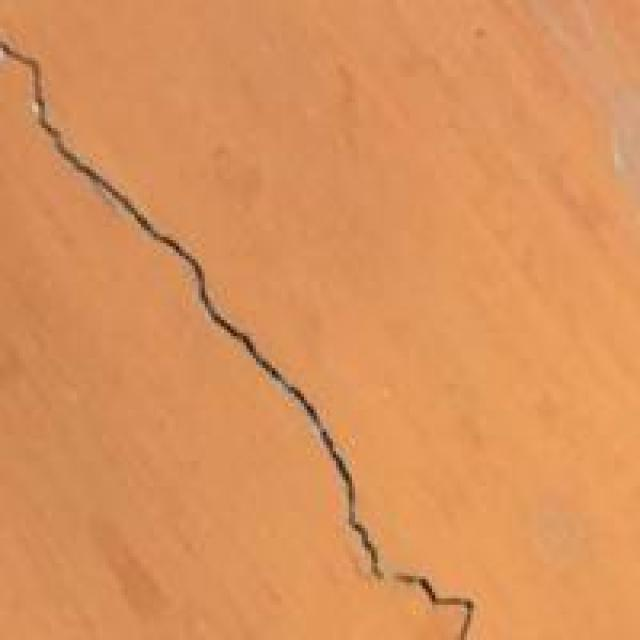Crack: (0, 32, 499, 637)
